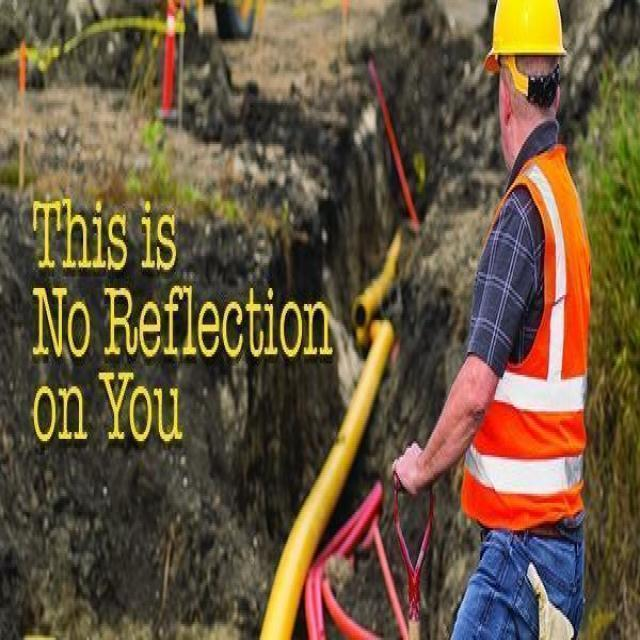helmet: (482, 0, 574, 86)
vest: (458, 139, 594, 537)
